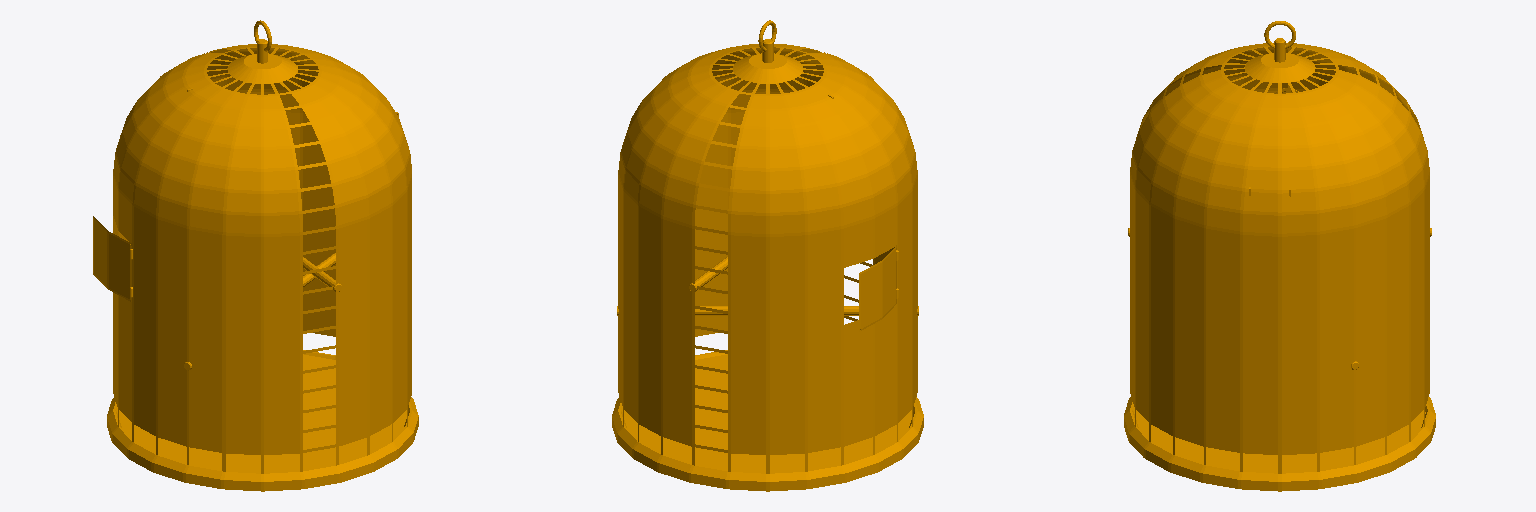
The robot description file, URDF, robot "mesh_object":
<robot name="mesh_object">
            <link name="base">
                <visual>
                    <geometry>
                        <mesh filename="birdfeeder_2_v000.obj" scale="1 1 1" />
                    </geometry>
                </visual>
                <collision>
                    <geometry>
                        <mesh filename="birdfeeder_2_v000.obj" scale="1 1 1" />
                    </geometry>
                </collision>
                <inertial>
                    <origin xyz="0.000000 0.000000 0.049312" rpy="0 0 0" />
                    <mass value="0.500000" />
                    <inertia ixx="0.01" iyy="0.01" izz="0.01" ixy="0" ixz="0" iyz="0" />
                </inertial>
            </link>
            </robot>

--- Facts derived from the render (not from the file) ---
3 views of the same robot in one strip: view 1: azimuth 30°, elevation 25°; view 2: azimuth 150°, elevation 25°; view 3: azimuth 270°, elevation 25° (orthographic).
Robot: mesh_object — 1 links, 0 joints (none); root link base; default pose: all joints at 0.
Links seen in each view (by area): view 1: base; view 2: base; view 3: base.
Boxes of the visible links, <box> form: base: <box>93,20,418,491</box>; base: <box>612,20,923,491</box>; base: <box>1124,21,1435,491</box>.
Size in the robot's own frame: 0.069 by 0.069 by 0.0986 metres.
1 mesh visuals loaded from 1 distinct referenced files (1 OBJ).
